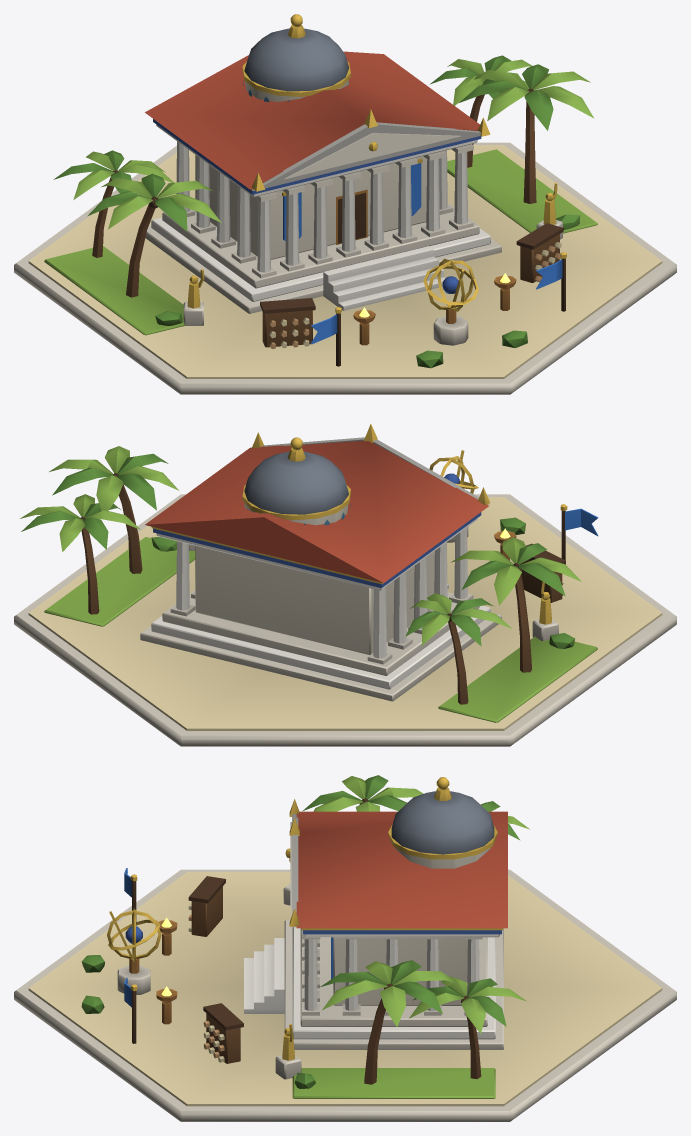
The model's file is w_great_library.glb.
3 views of the same model, one above another, from view 1: azimuth 30°, elevation 25°; view 2: azimuth 150°, elevation 25°; view 3: azimuth 270°, elevation 25° (orthographic).
Visible parts, largest first — view 1: w_great_library; view 2: w_great_library; view 3: w_great_library.
Boxes of the visible parts, box(x1,y1,x2,y2) form: w_great_library: box(14, 14, 676, 394); w_great_library: box(14, 424, 676, 746); w_great_library: box(14, 775, 676, 1121).
Size of the model in its own units: 1.48 by 0.608 by 1.63.
